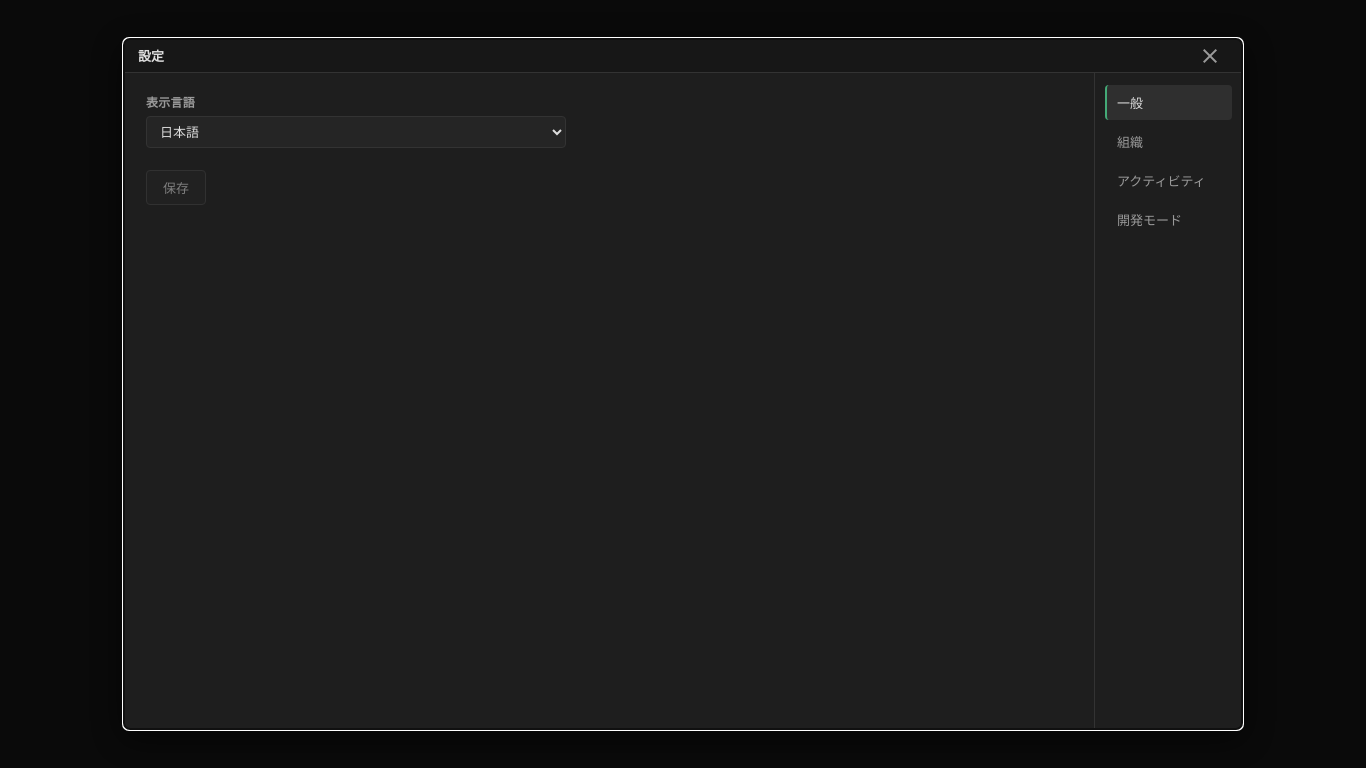
SettingsModal shell › keeps an unsaved language draft when switching to Development and back
Select "English" in the dropdown labelled "表示言語". click: (356, 132)
box: [146, 116, 566, 148]
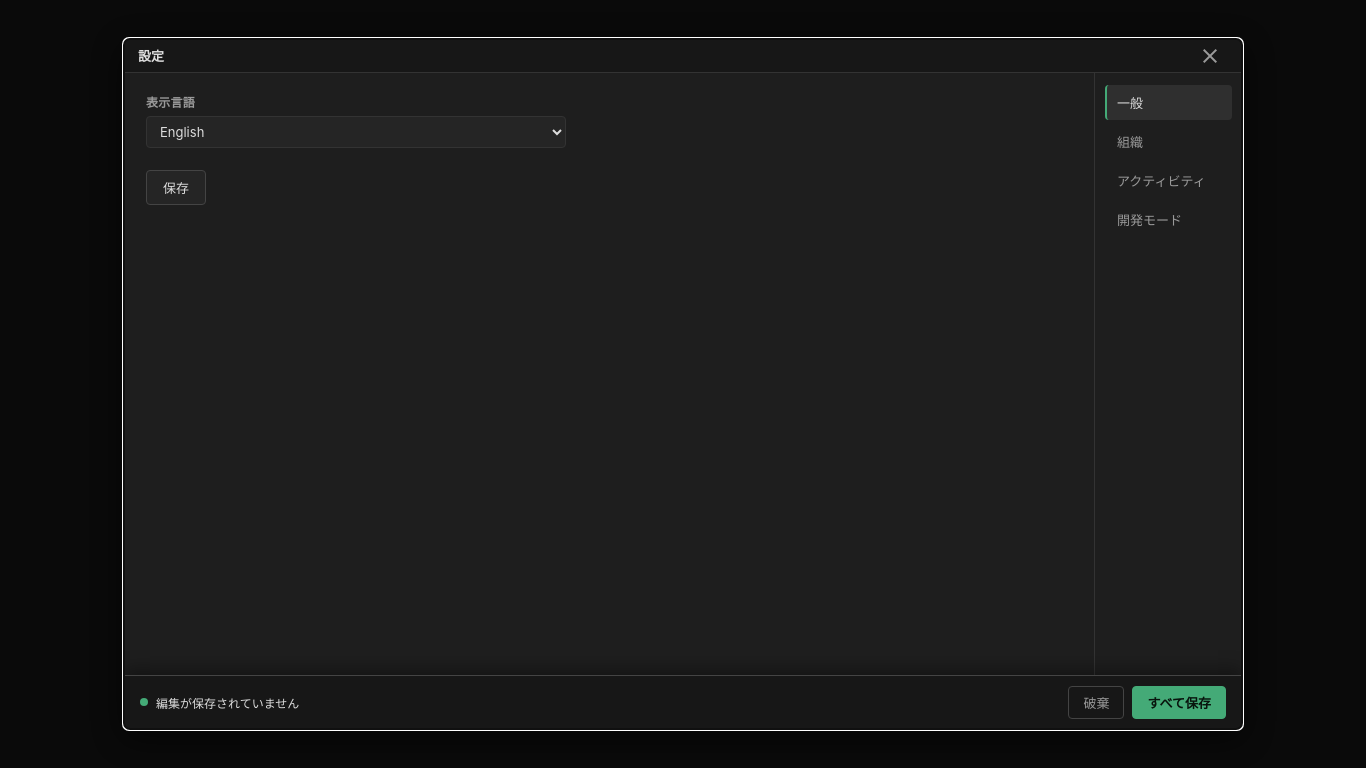
Click the tab "開発モード". click: (1168, 220)
box: [1105, 202, 1232, 237]
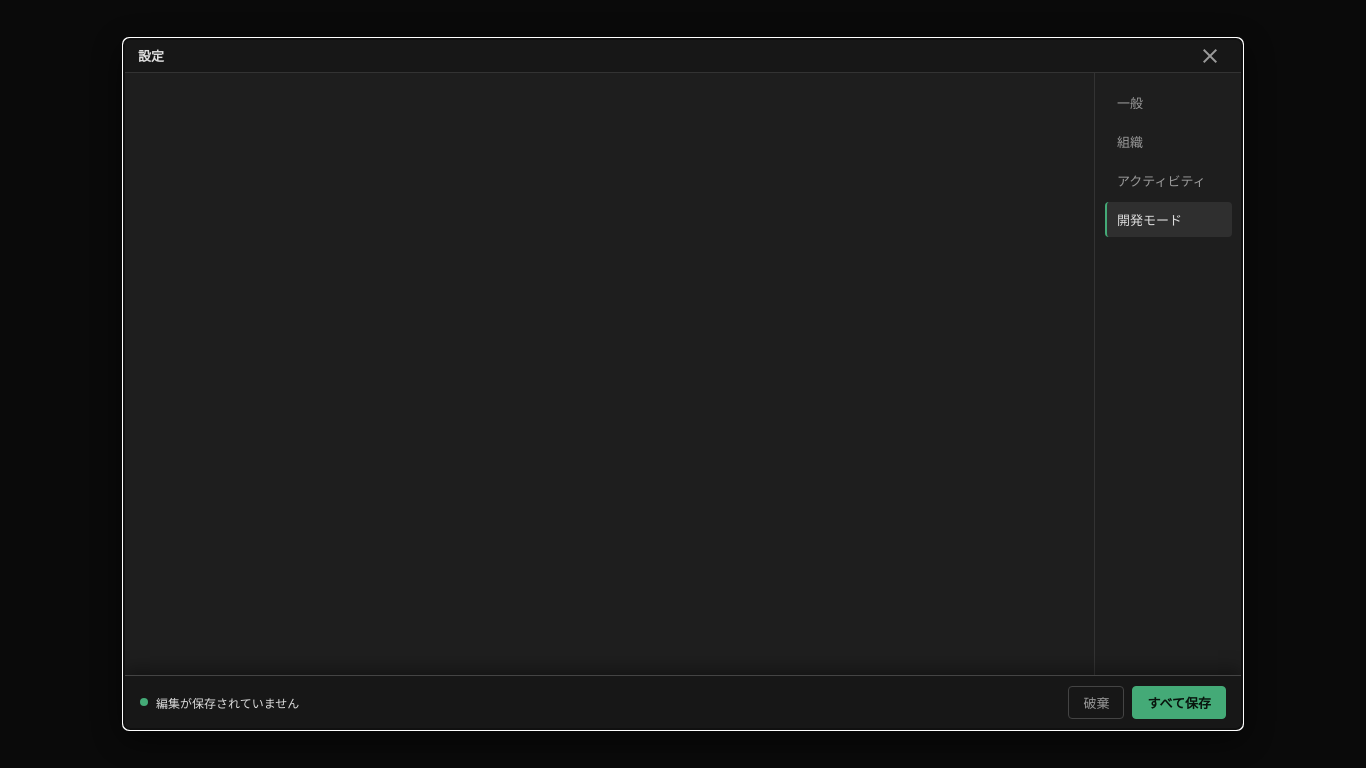
Click the tab "一般". click: (1168, 103)
box: [1105, 85, 1232, 120]
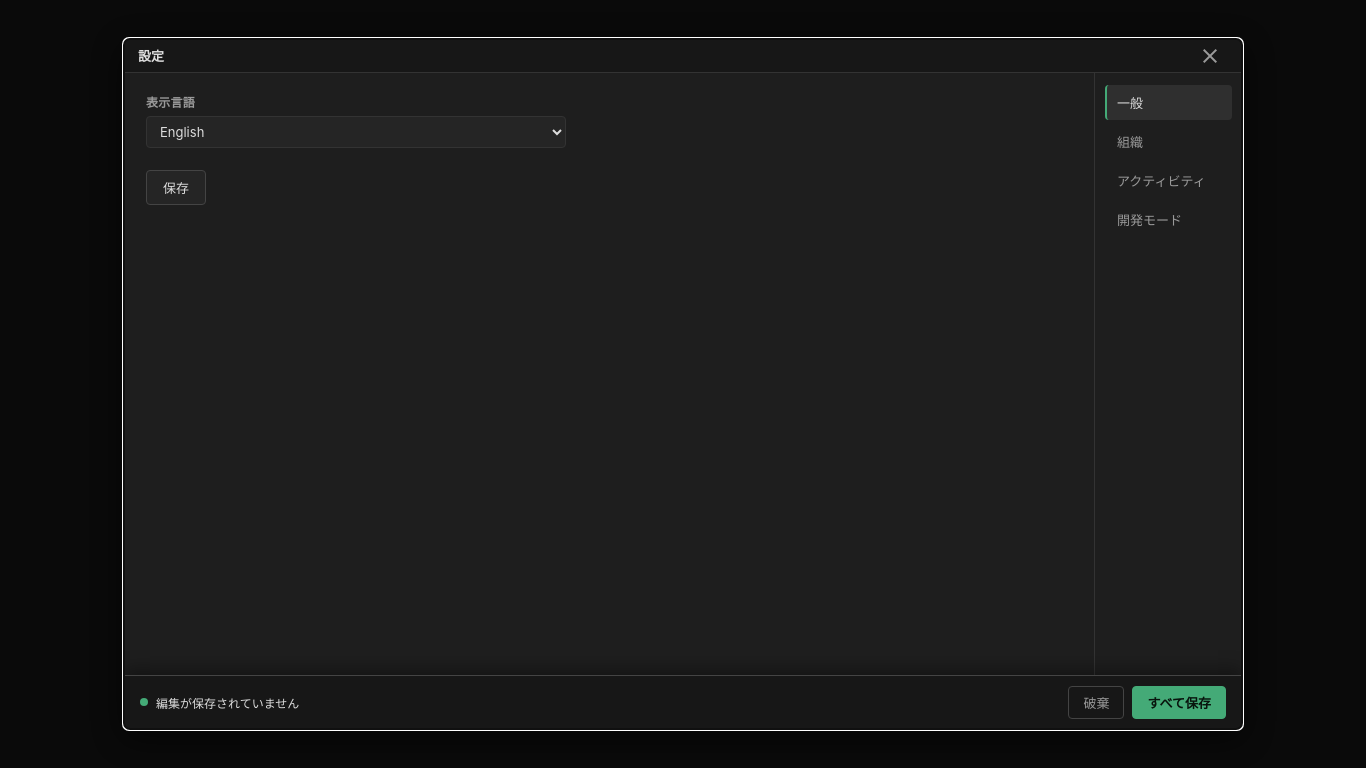
Now the button "保存" is enabled, box [146, 170, 206, 205]
